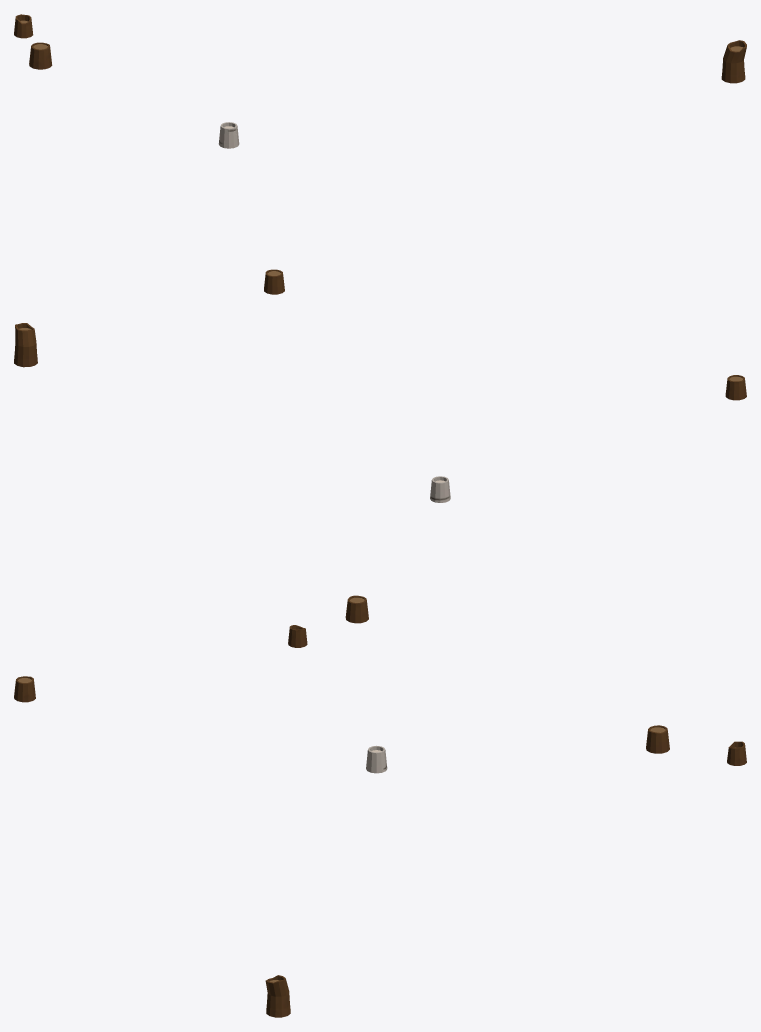
File: Trunks3.gltf
3 renders of one model, top to bottom at view 1: azimuth 30°, elevation 25°; view 2: azimuth 150°, elevation 25°; view 3: azimuth 270°, elevation 25°, orthographic. The views are drawn at different scales.
Parts seen in each view (by area): view 1: Trunk3 - copy.004, Trunk1 - copy.005, Trunk2 - copy.003, Trunk1 - copy.013; view 2: Trunk3 - copy.004, Trunk1 - copy.005; view 3: Trunk3 - copy.004, Trunk1 - copy.005.
Boxes of the visible parts, x1,y1,x2,y2 form: Trunk3 - copy.004: [721, 40, 746, 83]; Trunk1 - copy.005: [29, 42, 52, 69]; Trunk2 - copy.003: [218, 122, 239, 148]; Trunk1 - copy.013: [264, 269, 284, 294]; Trunk3 - copy.004: [14, 323, 37, 367]; Trunk1 - copy.005: [345, 595, 368, 623]; Trunk3 - copy.004: [265, 975, 290, 1017]; Trunk1 - copy.005: [646, 725, 669, 753].
Size of the model in its own units: 15.79 by 0.9141 by 16.04.
Materials: 4 (4 with a texture image).
